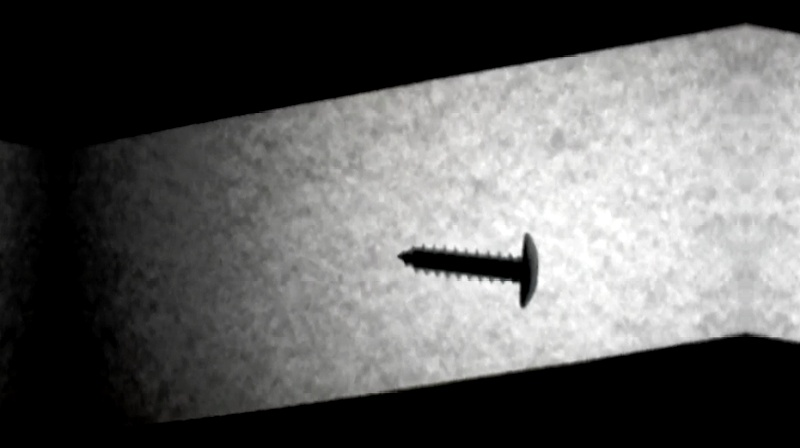S003: (392, 231, 543, 310)
